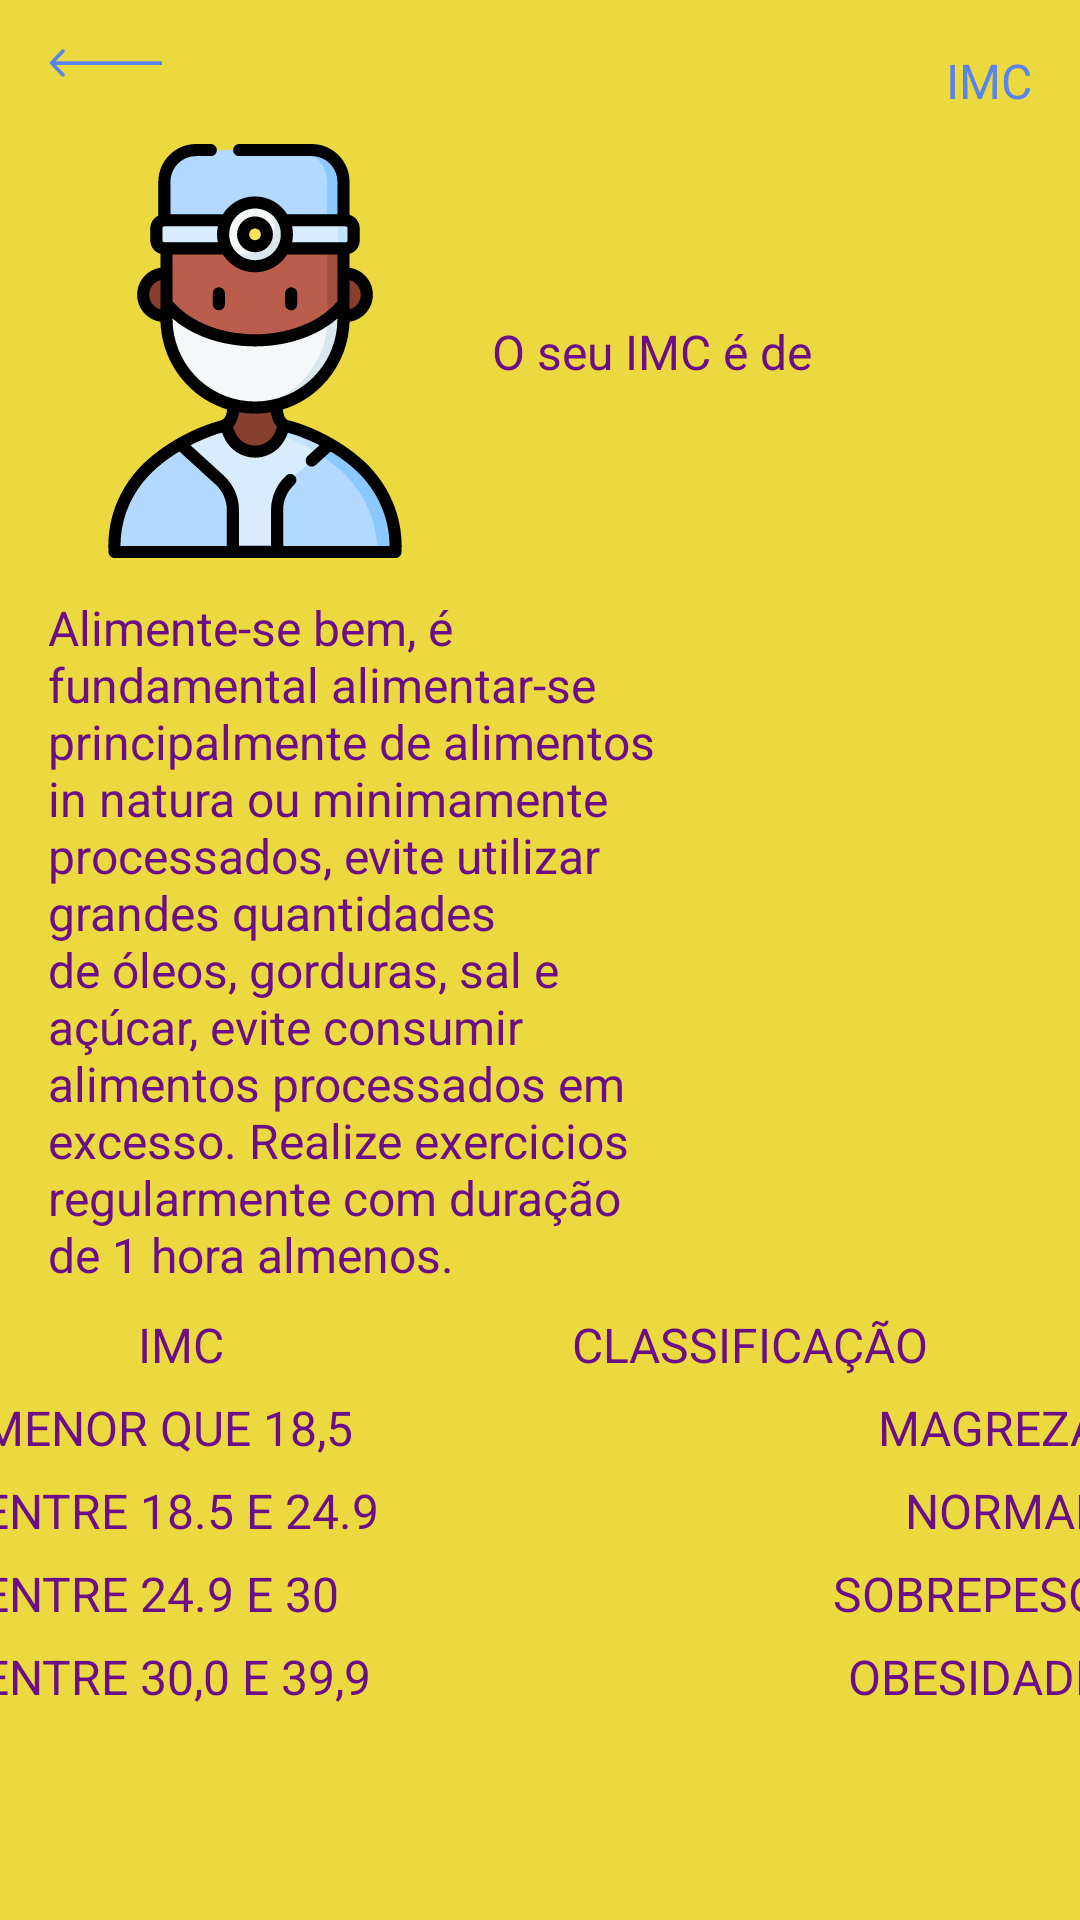

Screen size 1080*1920. Icon name, then its center in pixels as (x=x, y=y):
arrow: (x=106, y=63)
